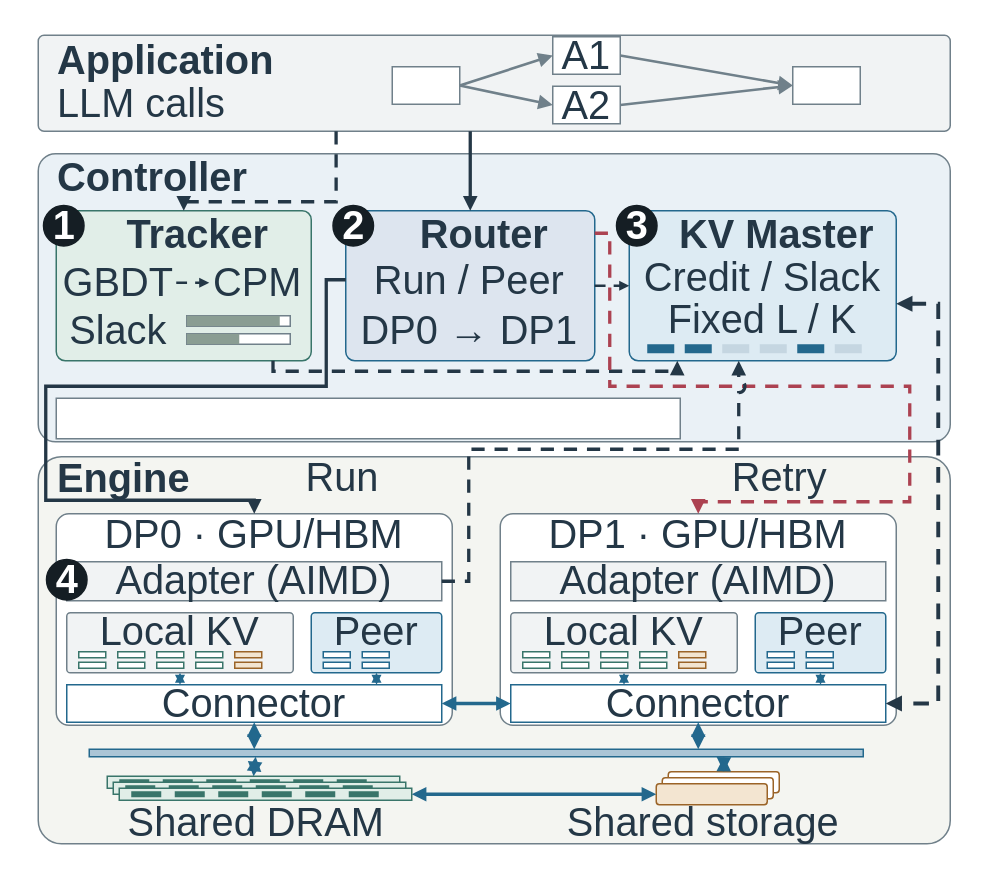
Image size: 987x879. Some labels were removed from this diagram. The centre of each missing label's shape, as x and y in pixels:
"A0" goes at point (425, 84).
"A3" goes at point (825, 84).
"Locations · D/S credit" goes at point (367, 418).
